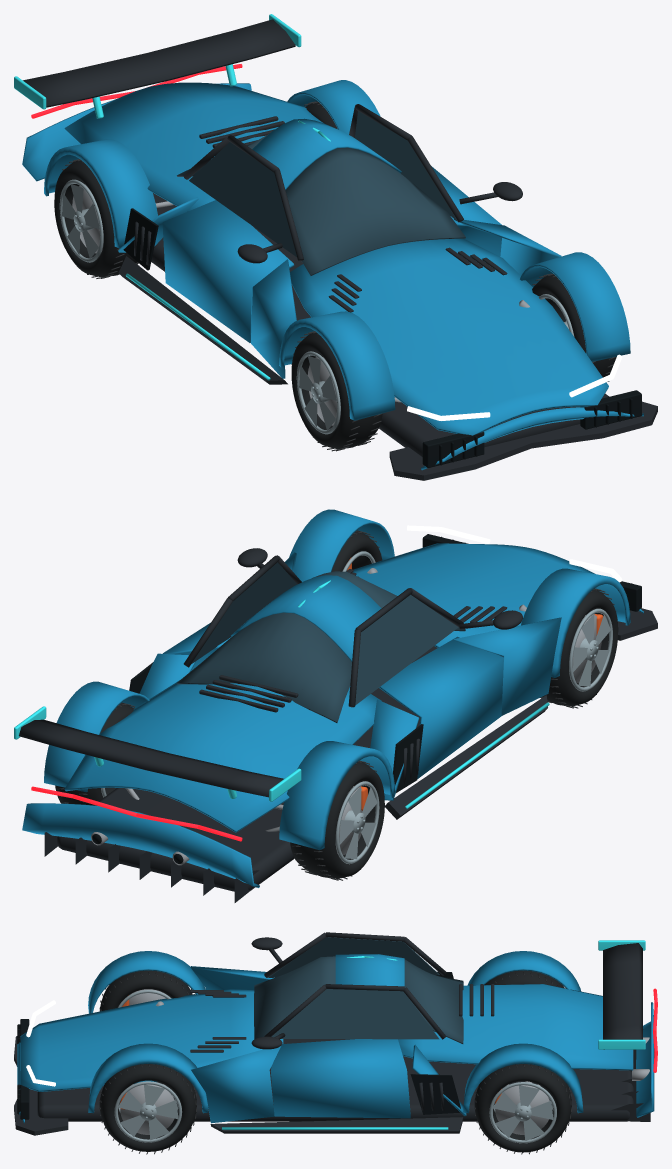
File: concept-ion.glb
3 renders of one model, top to bottom at view 1: azimuth 30°, elevation 25°; view 2: azimuth 150°, elevation 25°; view 3: azimuth 270°, elevation 25°, orthographic. The views are drawn at different scales.
Parts seen in each view (by area): view 1: Hood, RearDeckEngineCover, WindscreenGlass, SculptedWheelArchL, DoorL, Wing, SculptedWheelArchR, SideGlassL, FrontSplitter, SidePanelL, CarbonMonocoqueUndertray, Roof (+22 smaller); view 2: RearDeckEngineCover, Hood, SculptedWheelArchL, RearGlass, DoorL, CarbonMonocoqueUndertray, SculptedWheelArchR, BumperRear, SidePanelL, Wing, SideGlassL, Roof (+23 smaller); view 3: Hood, RearDeckEngineCover, DoorR, CarbonMonocoqueUndertray, SideGlassR, SculptedWheelArchR, SidePanelR, SculptedWheelArchL, WheelRearR_Tire, WheelFrontR_Tire, Wing, WindscreenGlass (+26 smaller).
Boxes of the visible parts, box(x1,y1,x2,y2) form: Hood: box(290, 238, 608, 435); RearDeckEngineCover: box(64, 82, 323, 211); WindscreenGlass: box(285, 147, 465, 275); SculptedWheelArchL: box(44, 139, 395, 420); DoorL: box(162, 200, 294, 342); Wing: box(23, 19, 295, 107); SculptedWheelArchR: box(287, 80, 630, 361); SideGlassL: box(189, 142, 296, 256); FrontSplitter: box(389, 401, 657, 480); SidePanelL: box(118, 197, 296, 378); CarbonMonocoqueUndertray: box(151, 193, 609, 456); Roof: box(252, 118, 401, 189); RearDeckEngineCover: box(64, 680, 381, 832); Hood: box(352, 543, 594, 647); SculptedWheelArchL: box(279, 568, 630, 850); RearGlass: box(177, 612, 351, 722); DoorL: box(379, 636, 503, 778); CarbonMonocoqueUndertray: box(57, 646, 502, 891); SculptedWheelArchR: box(44, 509, 394, 792); BumperRear: box(22, 803, 259, 887); SidePanelL: box(370, 617, 561, 800); Wing: box(19, 719, 283, 797); SideGlassL: box(355, 594, 458, 705); Roof: box(231, 575, 381, 661); Hood: box(20, 989, 283, 1091); RearDeckEngineCover: box(398, 984, 633, 1070); DoorR: box(270, 1039, 410, 1118); CarbonMonocoqueUndertray: box(37, 1039, 633, 1121); SideGlassR: box(271, 989, 439, 1039); SculptedWheelArchR: box(88, 1043, 583, 1113); SidePanelR: box(191, 1044, 466, 1123); SculptedWheelArchL: box(88, 951, 581, 1013); WheelRearR_Tire: box(474, 1064, 571, 1152); WheelFrontR_Tire: box(99, 1064, 196, 1151); Wing: box(603, 943, 642, 1049); WindscreenGlass: box(254, 956, 335, 1039).
Bounding box in the file's own units: 2.09 × 1.3 × 5.15.
